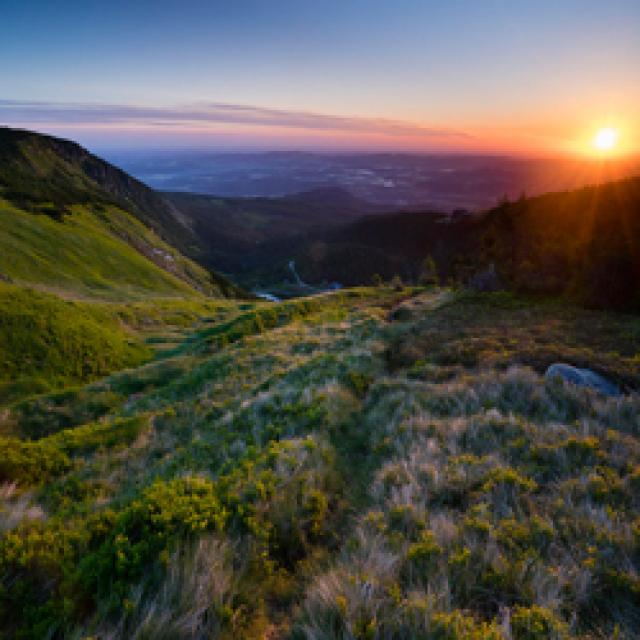light: (561, 97, 640, 185)
